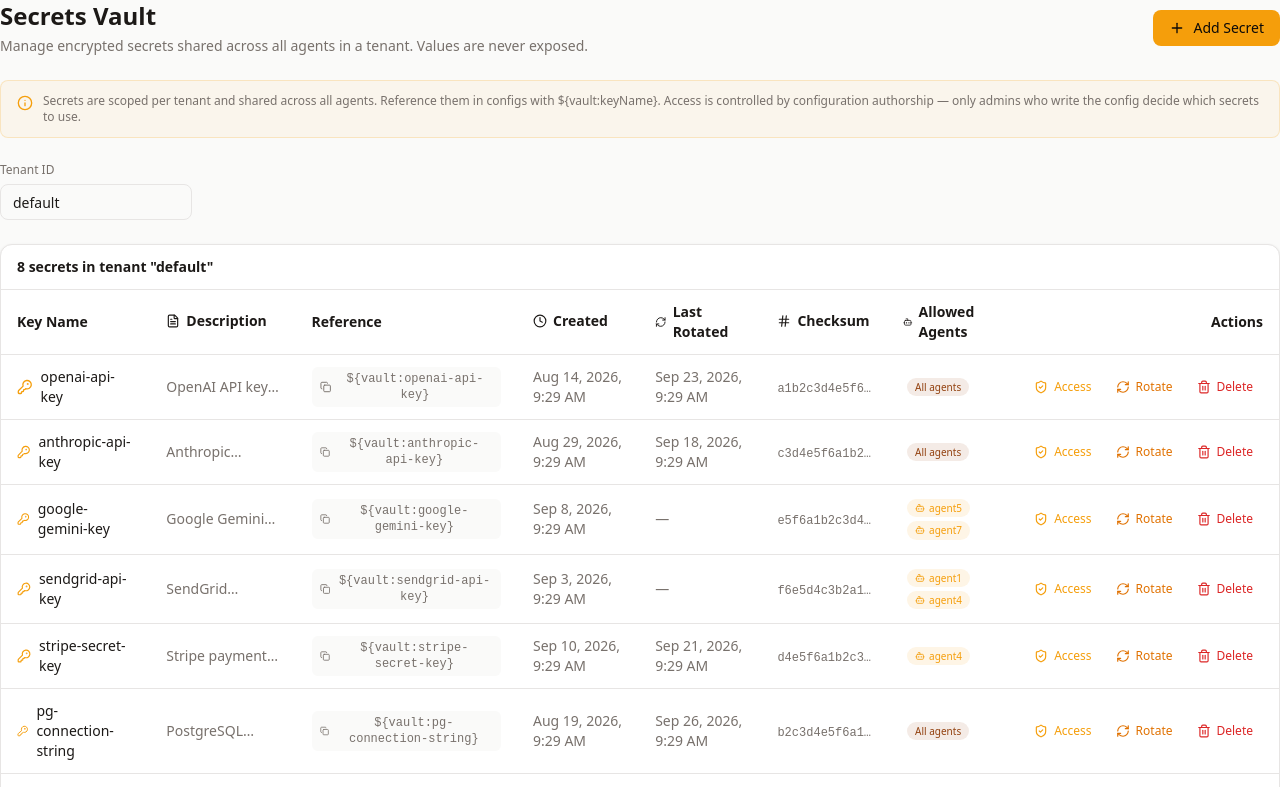
SecretsPage › opens create dialog when Add Secret is clicked
The width and height of the screenshot is (1280, 787).
Click the button with test id "create-secret-button". click: (1217, 28)
box: [1153,10,1279,46]
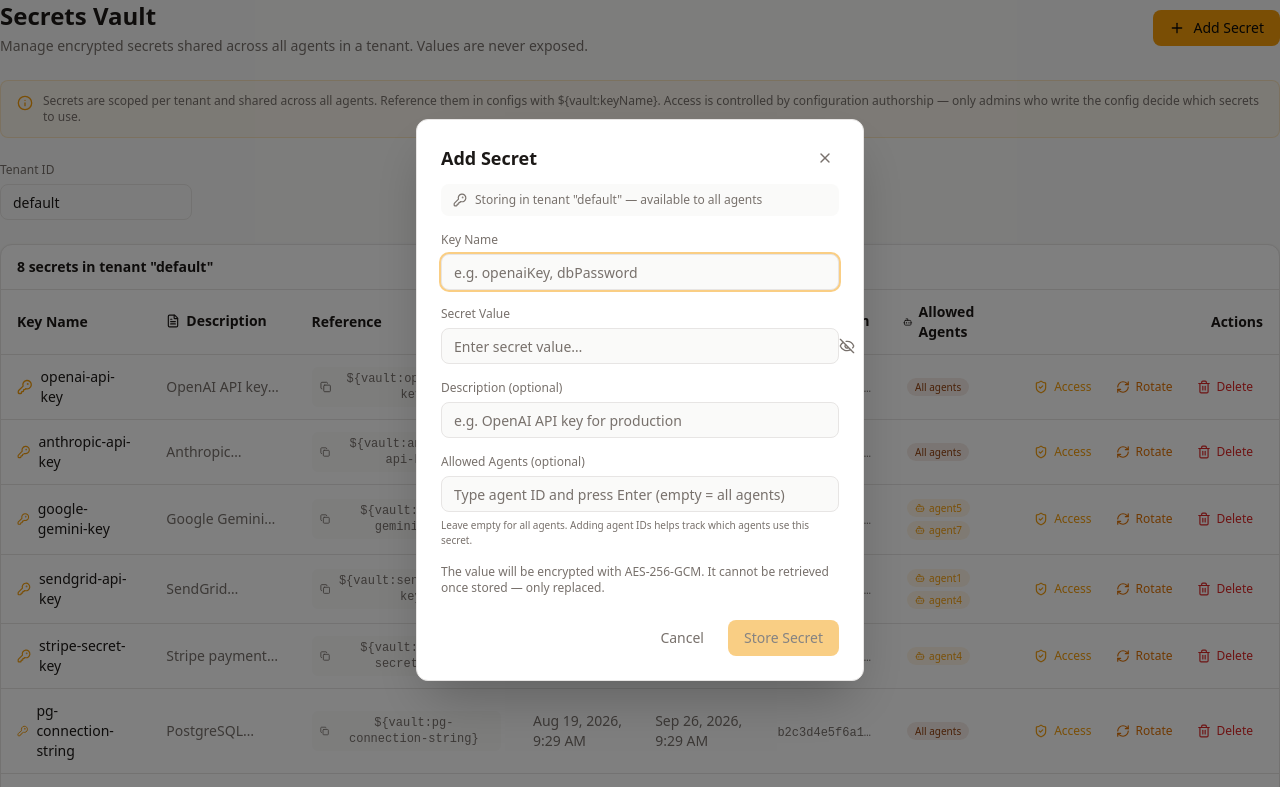
Now the field with test id "new-key-input" is shown, box [441,254,839,290]
Now the password field with test id "new-value-input" is shown, box [441,328,839,364]
Now the button with test id "new-value-eye" is shown, box [839,338,855,354]
